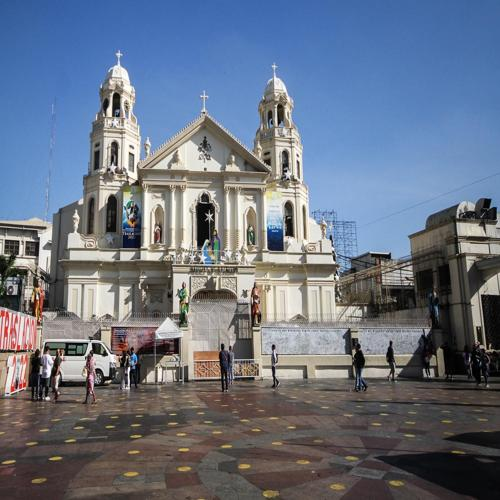Quiapo Church: (40, 39, 341, 379)
